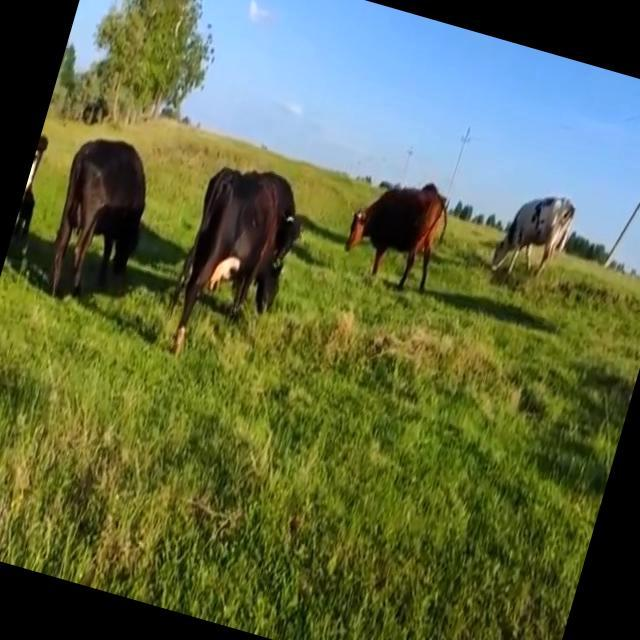COW: (172, 168, 301, 352), (51, 139, 145, 293), (346, 184, 445, 290), (492, 197, 574, 273)
